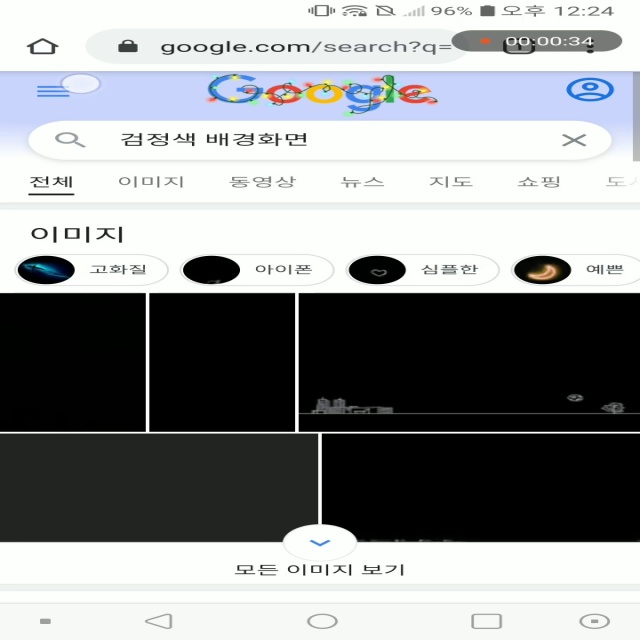Cursor: (59, 73, 104, 95)
